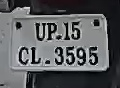1: (62, 22, 70, 42)
3: (51, 45, 66, 68)
5: (69, 20, 83, 41), (64, 45, 76, 67), (88, 46, 99, 67)
9: (76, 46, 88, 68)
C: (16, 46, 30, 67)
L: (30, 45, 43, 66)
P: (47, 22, 57, 41)
U: (34, 21, 47, 43)
